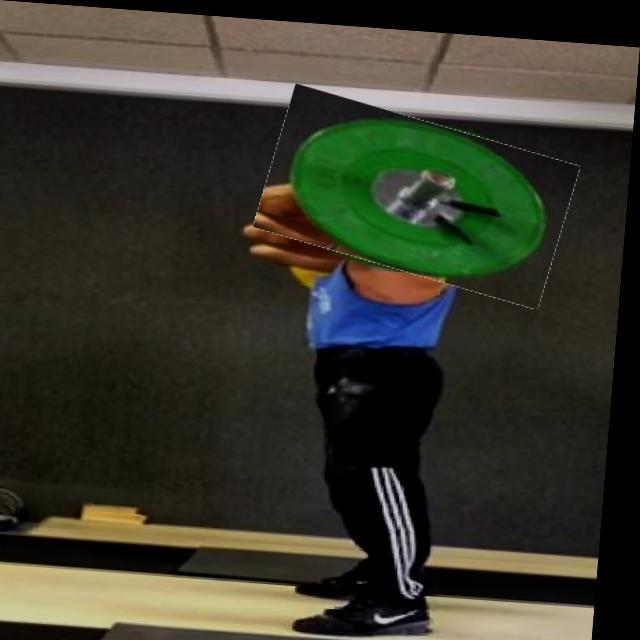barbell: (261, 93, 580, 289)
